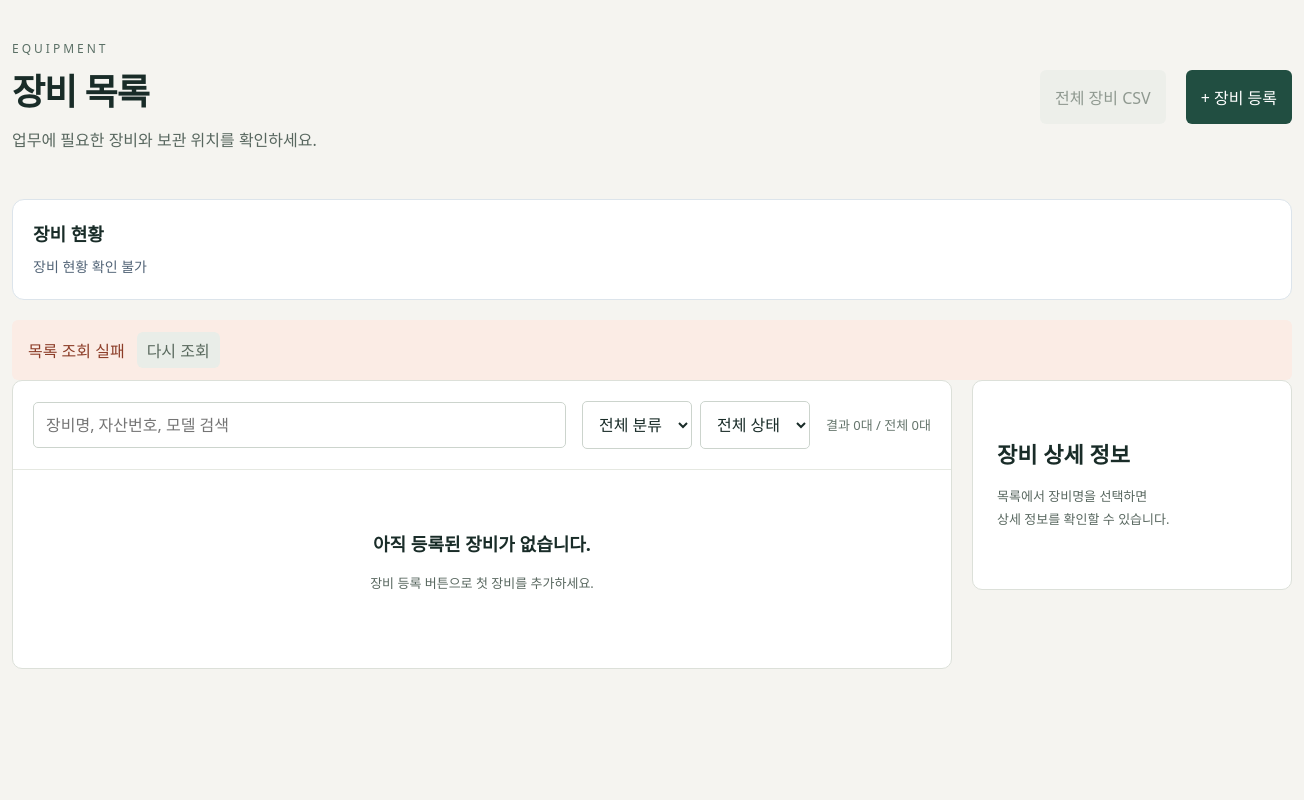
Test: failed list retrieval is not shown as a zero inventory and retry recovers
Check: the text "장비 현황 확인 불가" is shown, box [33, 257, 147, 276]
Click the button "다시 조회" at (178, 350), box [137, 332, 220, 368]
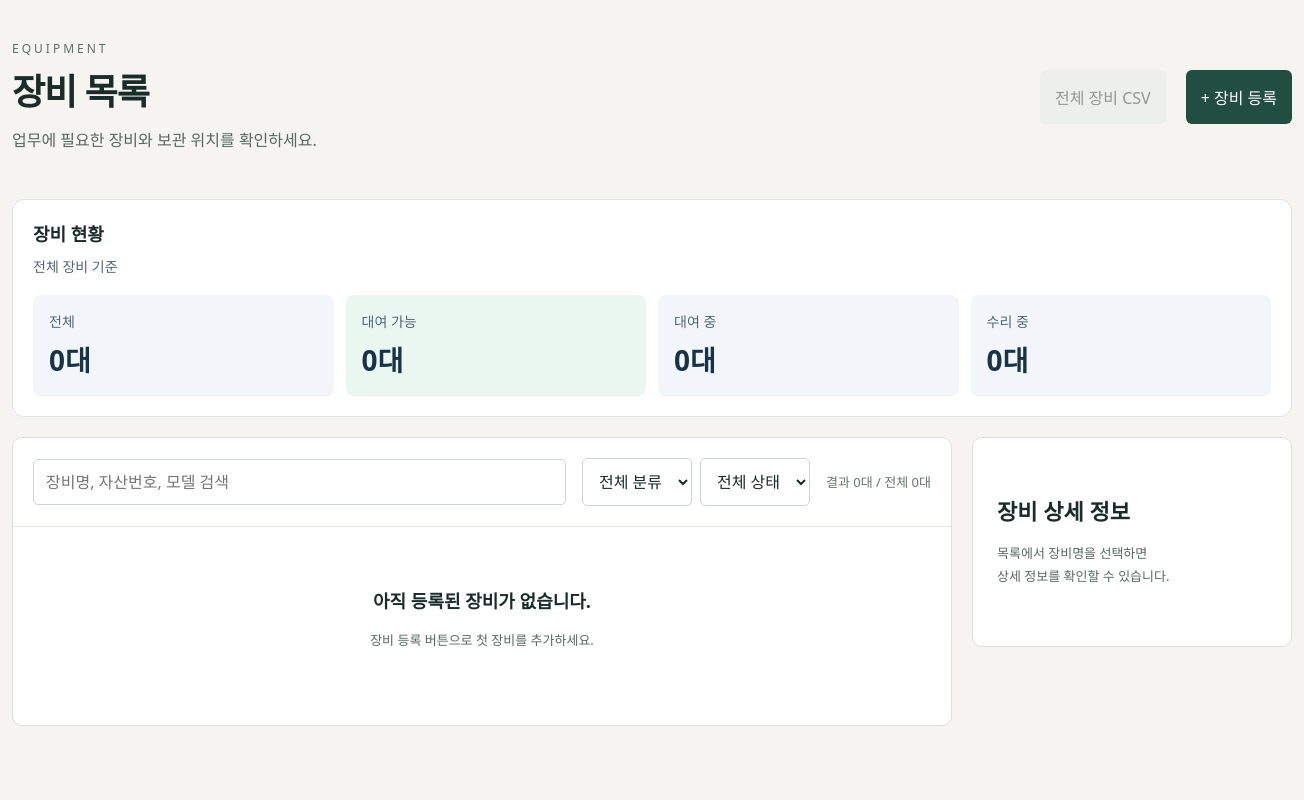
Check: the text "0대" is shown 4 times, box [49, 341, 91, 379]; [362, 341, 403, 379]; [674, 341, 716, 379]; [986, 341, 1028, 379]
